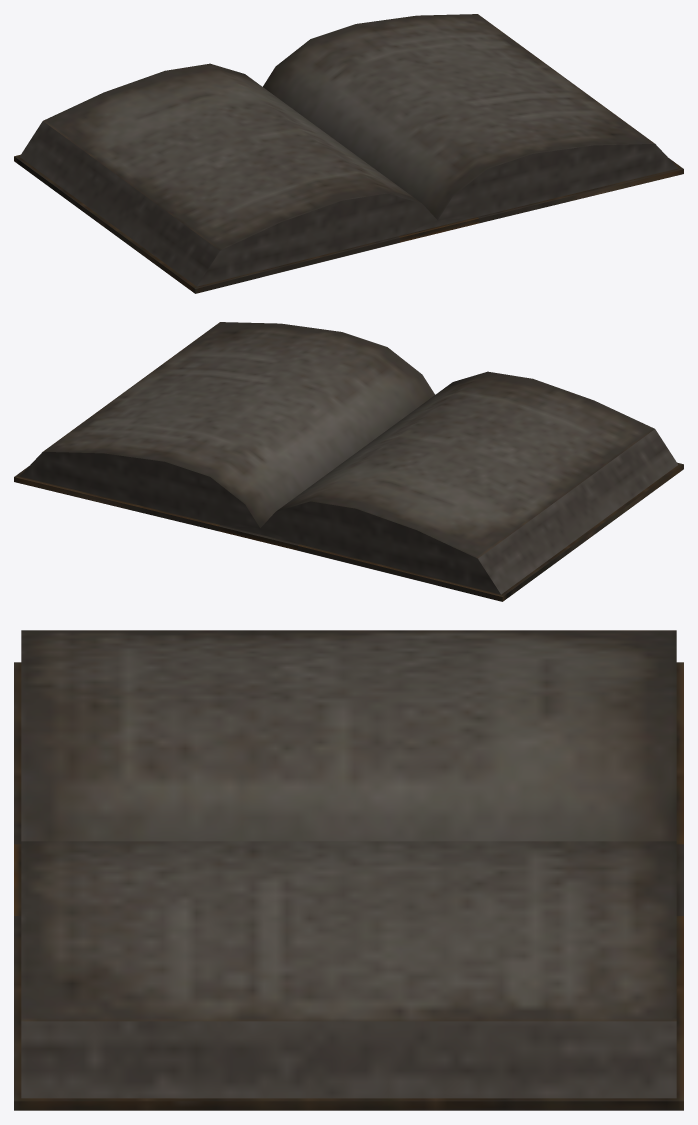
The model's file is open_book_mp_1.obj.
3 views of the same model, one above another, from view 1: azimuth 30°, elevation 25°; view 2: azimuth 150°, elevation 25°; view 3: azimuth 270°, elevation 25° (orthographic). The views are drawn at different scales.
Parts seen in each view (by area): view 1: open_book_mp_1; view 2: open_book_mp_1; view 3: open_book_mp_1.
Part boxes in pixels (x1,y1,x2,y2): open_book_mp_1: (14,14,683,293); open_book_mp_1: (14,322,683,601); open_book_mp_1: (14,630,683,1110).
Size of the model in its own units: 0.42 by 0.0458 by 0.27.
